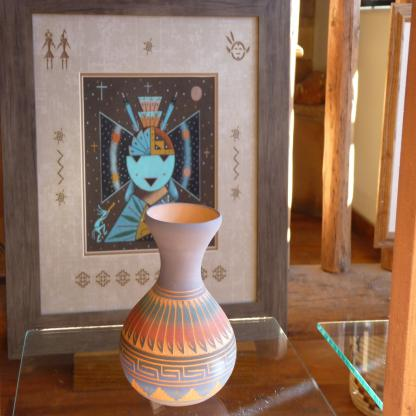vase: (119, 204, 236, 406)
